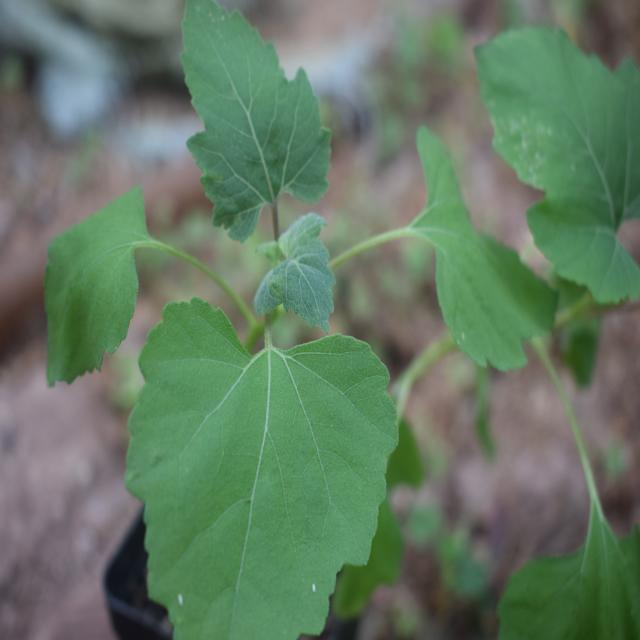cocklebur: (56, 11, 548, 625)
